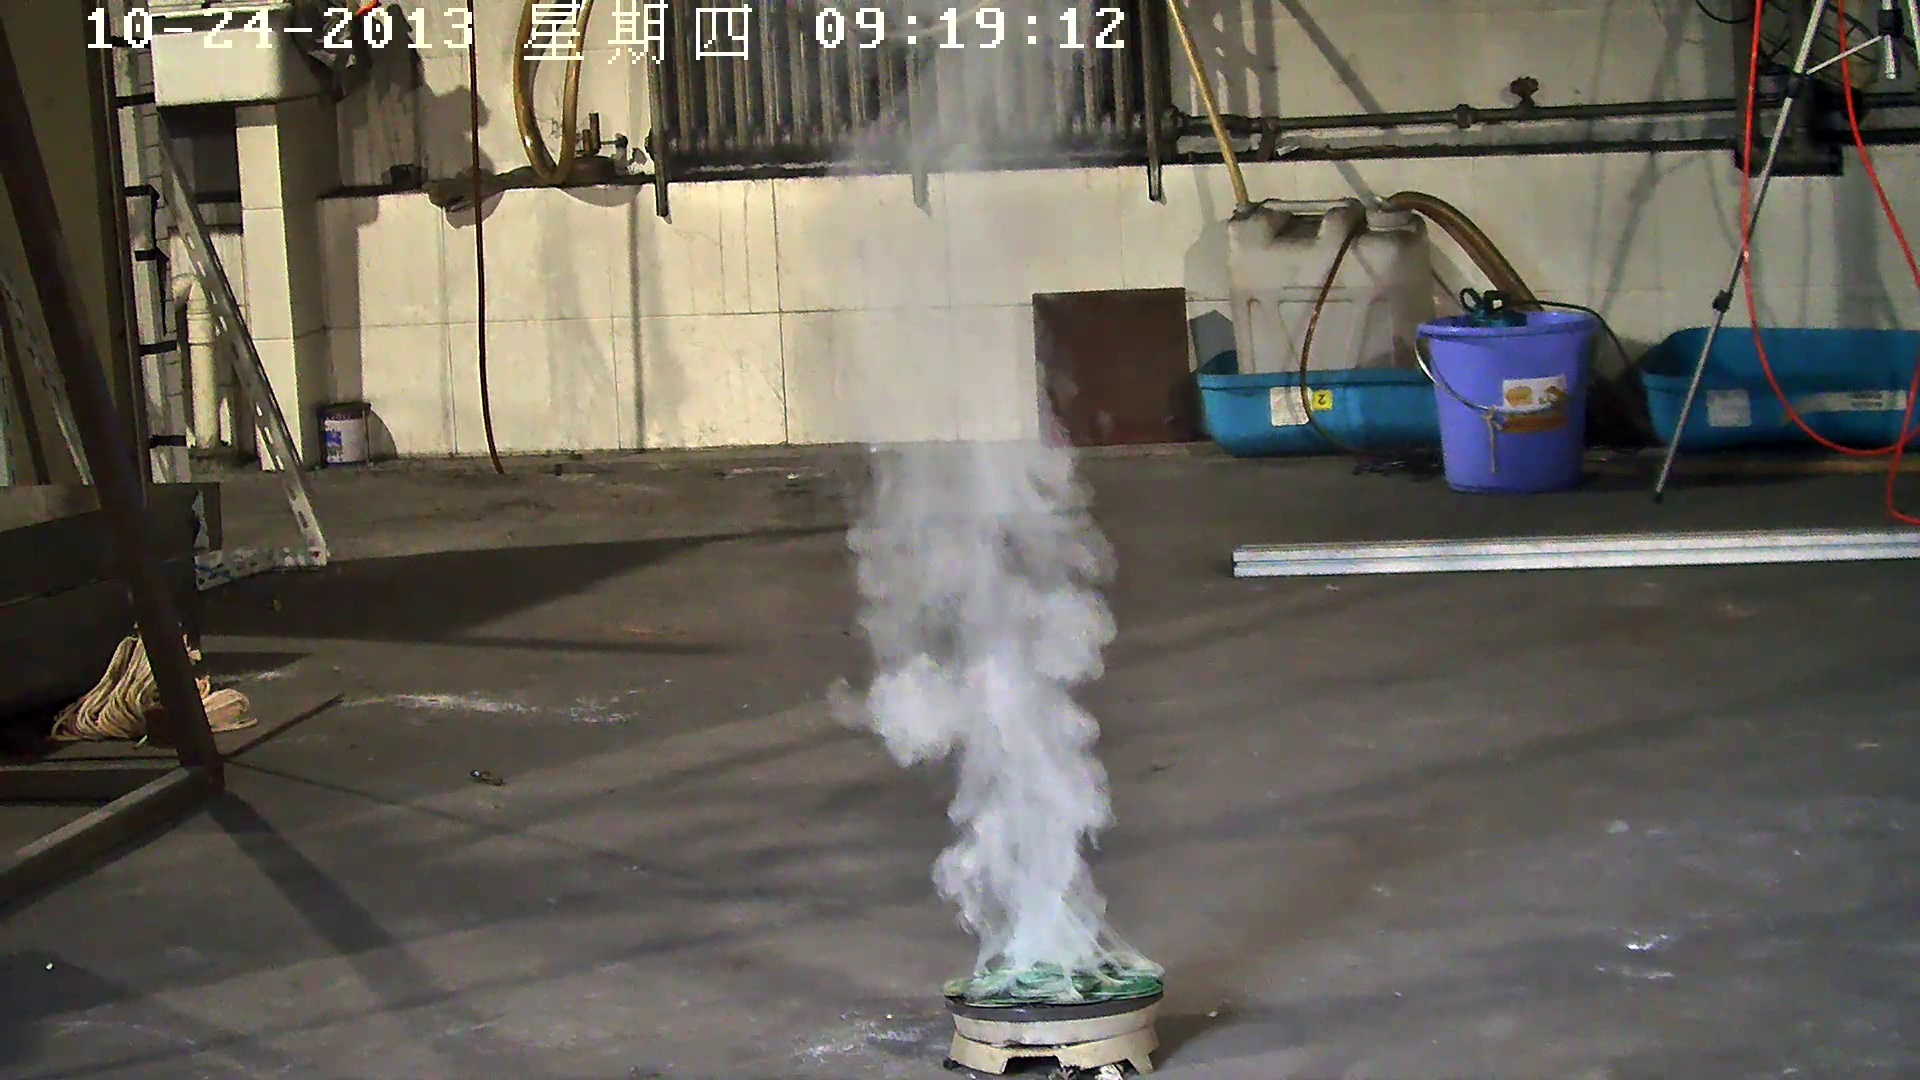smoke: (814, 73, 1175, 980)
